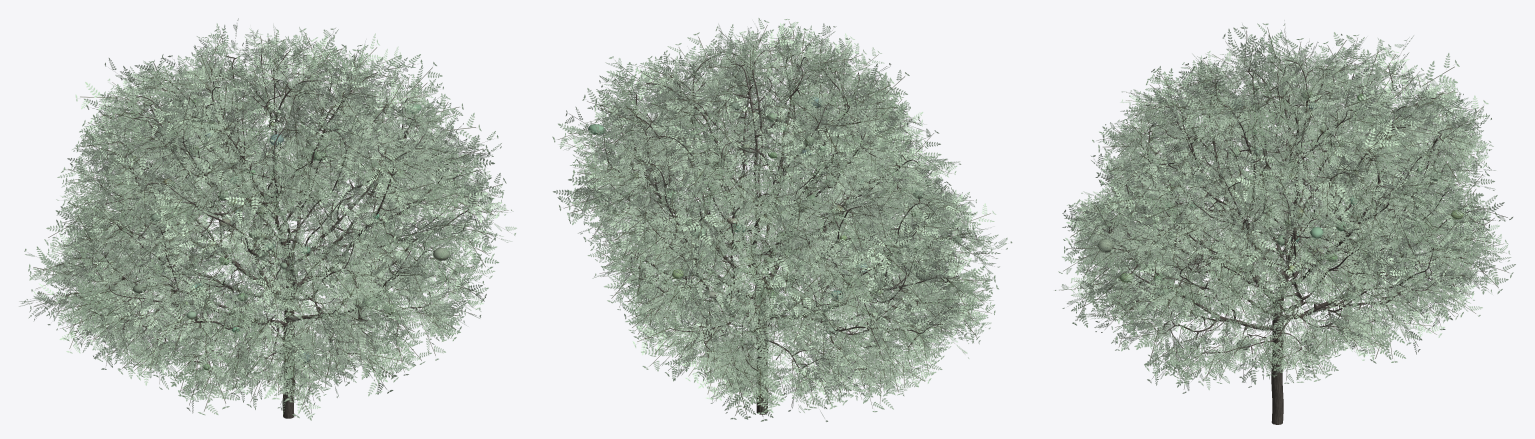
File: tree_66_broadleaf.glb
3 renders of one model, left to right at view 1: azimuth 30°, elevation 25°; view 2: azimuth 150°, elevation 25°; view 3: azimuth 270°, elevation 25°, orthographic.
Parts seen in each view (by area): view 1: tree_66_broadleaf.leaves, tree_66_broadleaf.trunk_branches, tree_66_broadleaf.foliage_volume; view 2: tree_66_broadleaf.leaves, tree_66_broadleaf.trunk_branches, tree_66_broadleaf.foliage_volume; view 3: tree_66_broadleaf.leaves, tree_66_broadleaf.trunk_branches, tree_66_broadleaf.foliage_volume.
Part boxes in pixels (<box>): tree_66_broadleaf.leaves: <box>19,18,516,420</box>; tree_66_broadleaf.trunk_branches: <box>63,50,478,418</box>; tree_66_broadleaf.foliage_volume: <box>130,99,449,379</box>; tree_66_broadleaf.leaves: <box>552,18,1012,421</box>; tree_66_broadleaf.trunk_branches: <box>602,47,971,414</box>; tree_66_broadleaf.foliage_volume: <box>588,96,962,334</box>; tree_66_broadleaf.leaves: <box>1054,20,1515,393</box>; tree_66_broadleaf.trunk_branches: <box>1097,59,1466,424</box>; tree_66_broadleaf.foliage_volume: <box>1097,86,1463,349</box>.
Size of the model in its own units: 15.27 by 12.9 by 14.78.
3 materials, 2 textured.
